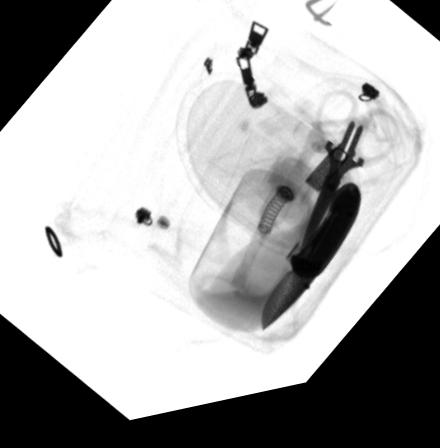Knife: (259, 198, 363, 343)
Scissors: (299, 101, 401, 270)
